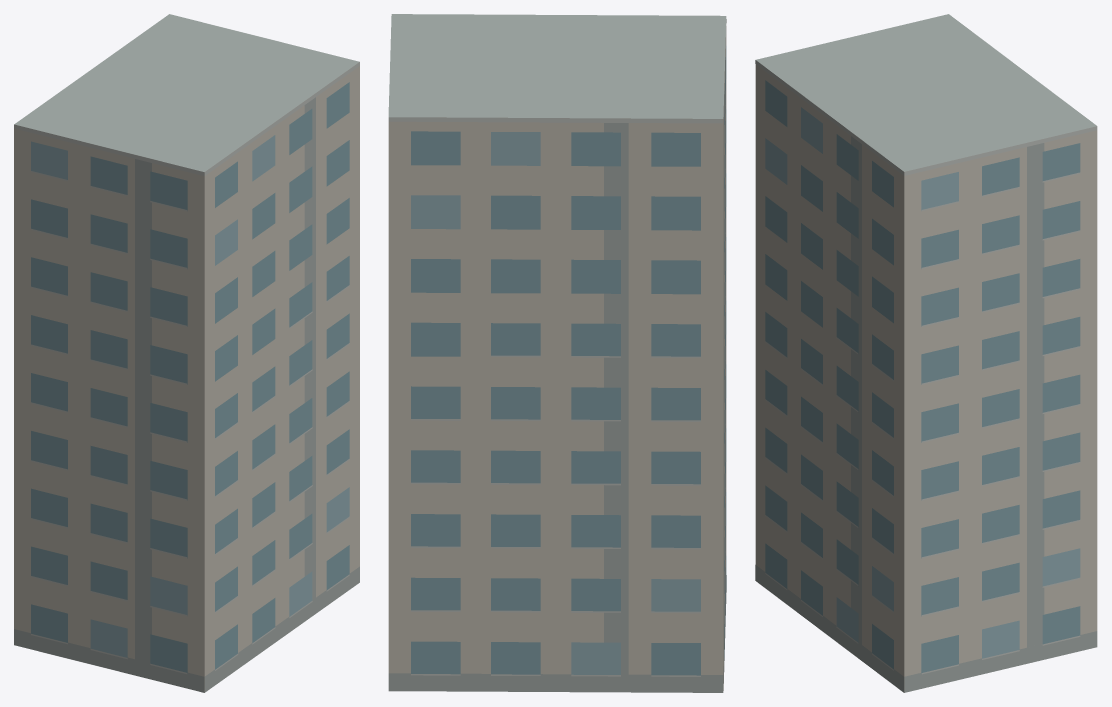
Rendered from residential-c929dd27-7445-4c78-9a6d-19fde62b228d.glb.
3 views of the same model, side by side, from view 1: azimuth 30°, elevation 25°; view 2: azimuth 150°, elevation 25°; view 3: azimuth 270°, elevation 25° (orthographic). The views are drawn at different scales.
Parts seen in each view (by area): view 1: residential-c929dd27-7445-4c78-9a6d-19fde62b228d.tmp; view 2: residential-c929dd27-7445-4c78-9a6d-19fde62b228d.tmp; view 3: residential-c929dd27-7445-4c78-9a6d-19fde62b228d.tmp.
Boxes of the visible parts, x1,y1,x2,y2 form: residential-c929dd27-7445-4c78-9a6d-19fde62b228d.tmp: (14, 14, 359, 692); residential-c929dd27-7445-4c78-9a6d-19fde62b228d.tmp: (388, 14, 726, 692); residential-c929dd27-7445-4c78-9a6d-19fde62b228d.tmp: (755, 14, 1097, 692).
Bounding box in the file's own units: 20.16 × 31 × 18.44.
